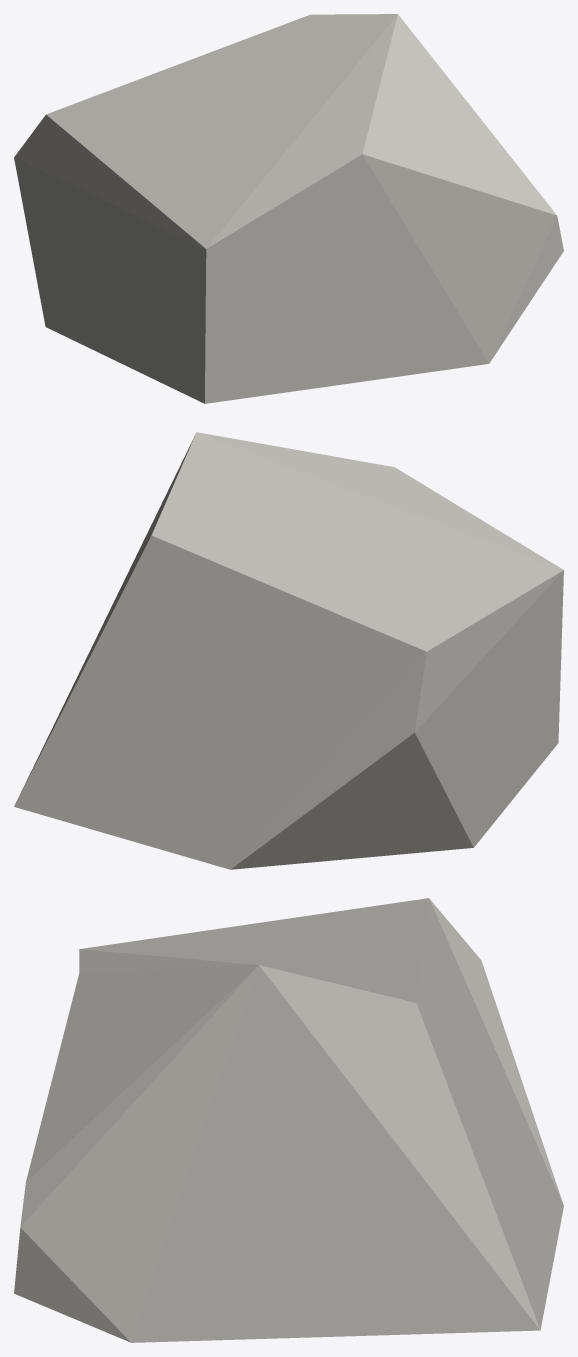
File: rock.fbx
3 views of the same model, one above another, from view 1: azimuth 30°, elevation 25°; view 2: azimuth 150°, elevation 25°; view 3: azimuth 270°, elevation 25° (orthographic). The views are drawn at different scales.
Visible parts, largest first — view 1: rock; view 2: rock; view 3: rock.
Part boxes in pixels (box(x1,y1,x2,y2)): rock: box(14, 14, 563, 403); rock: box(14, 432, 563, 869); rock: box(14, 898, 563, 1342).
Size of the model in its own units: 2.37 by 1.64 by 2.45.
Materials: 1 (1 with a texture image).
